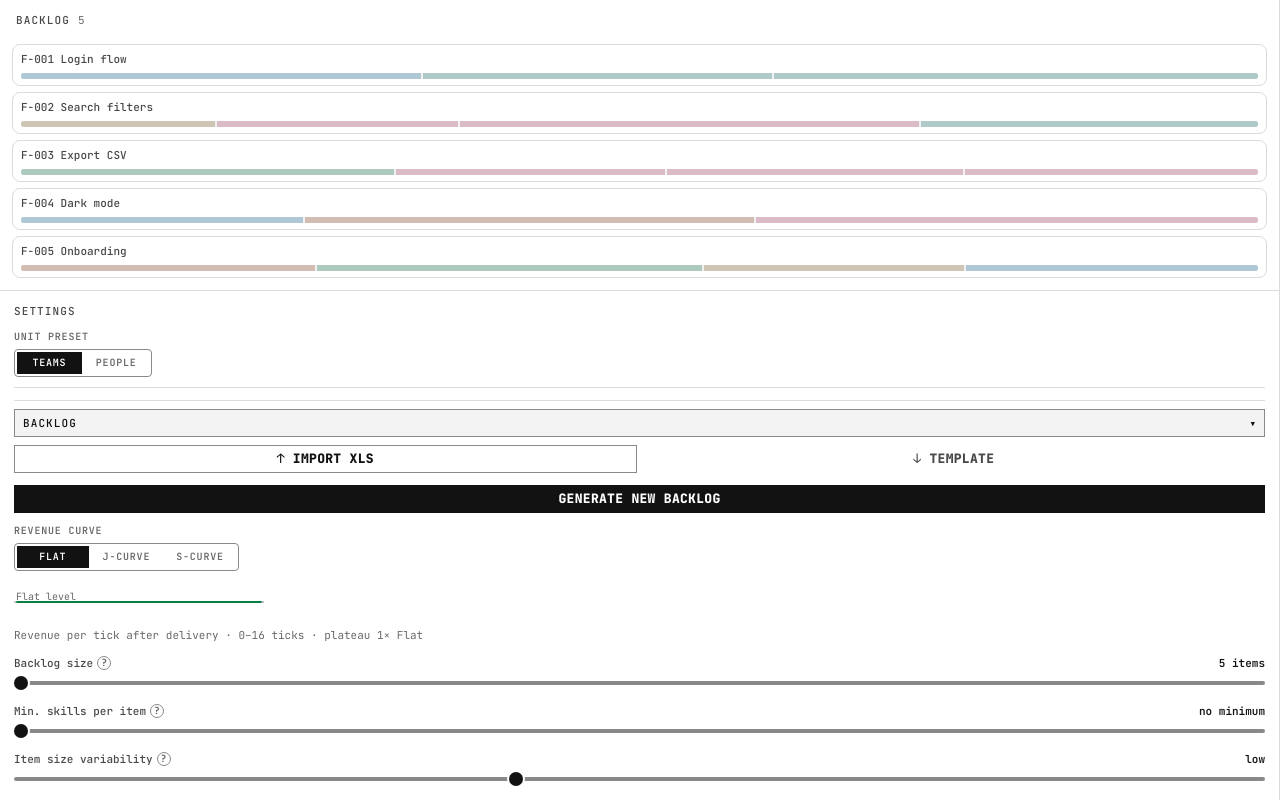
feat-017: přepínač „Revenue curve“ v BacklogSettingsPanel › hover hint zvoleného profilu „flat“ popisuje jeho tvar
Hover over the button "Flat" at {"x": 53, "y": 557}, box [17,546,89,568]
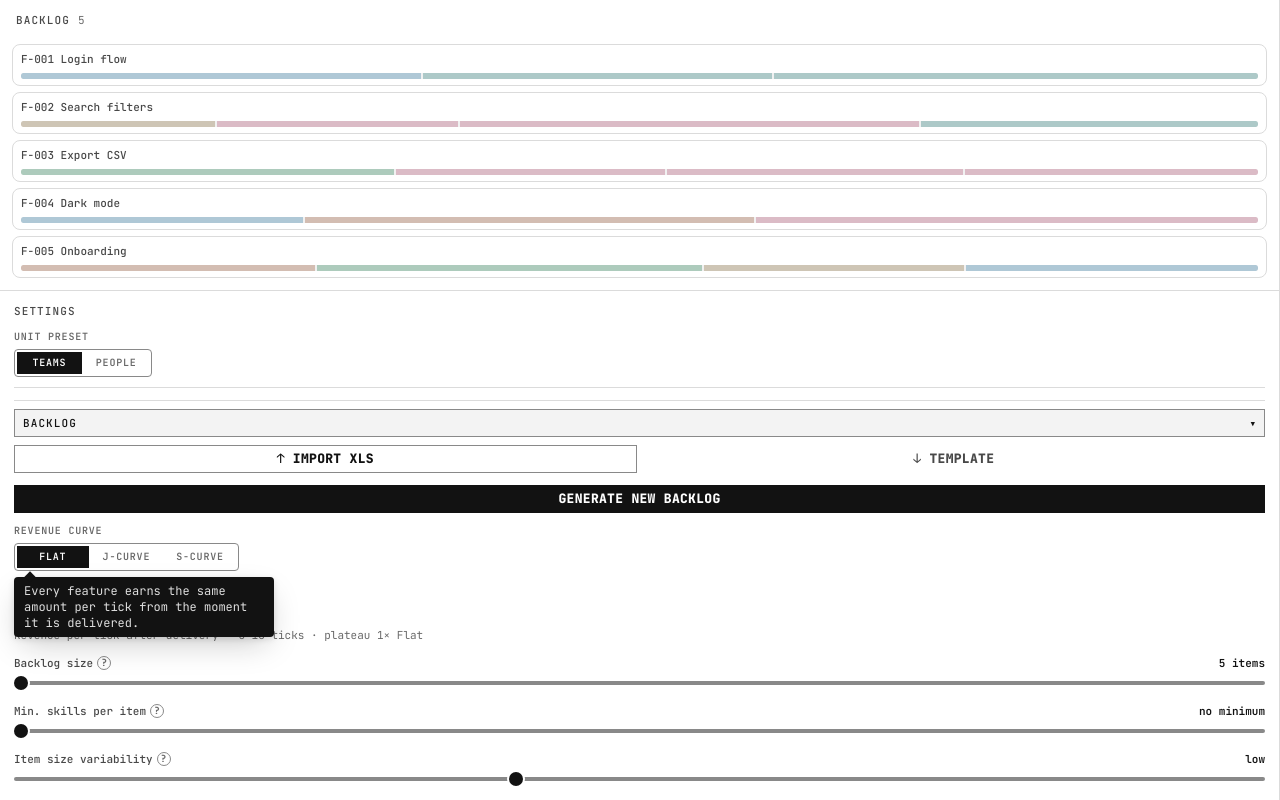
Check: the text "Every feature earns the same amount per tick from the moment it is delivered." is shown, box [14,577,274,637]
